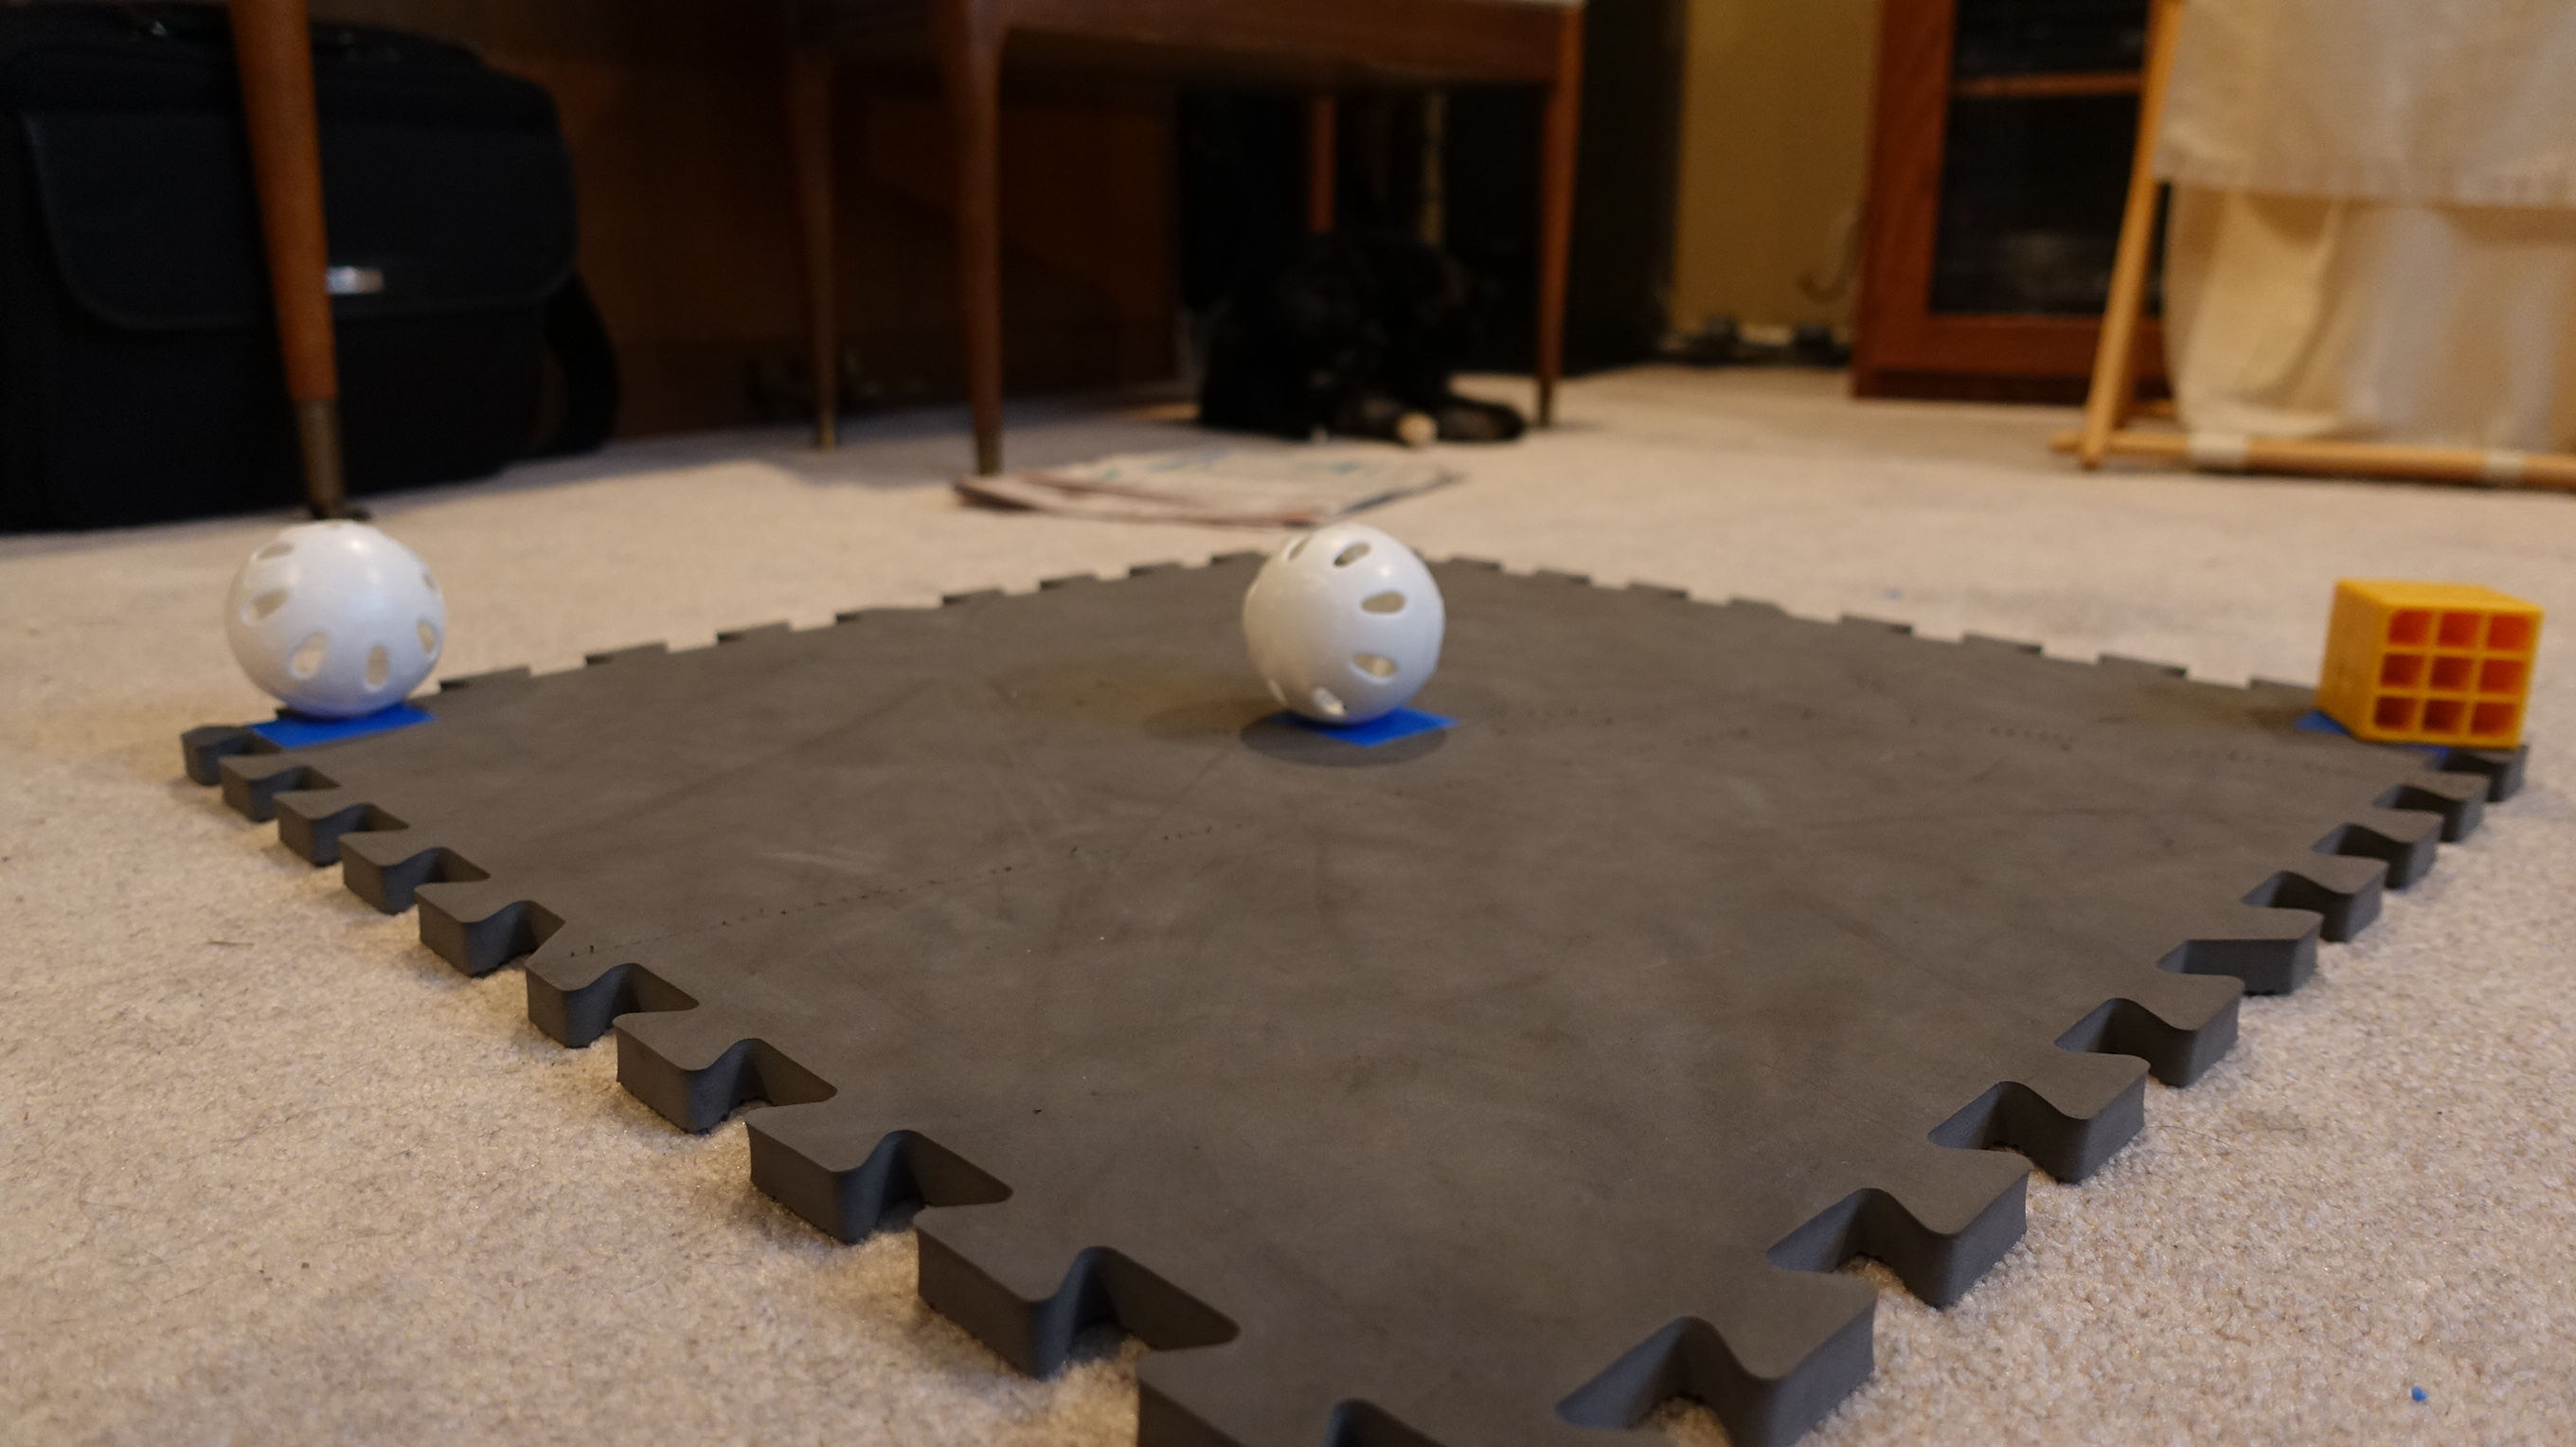gold: (2312, 566, 2548, 746)
silver: (219, 515, 453, 720), (1233, 515, 1451, 731)
